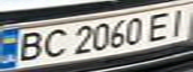0: (124, 15, 151, 46), (90, 20, 112, 52)
2: (69, 22, 97, 56)
6: (109, 17, 130, 50)
B: (9, 29, 48, 63)
C: (36, 27, 69, 60)
E: (142, 9, 178, 42)
I: (163, 7, 193, 37)
